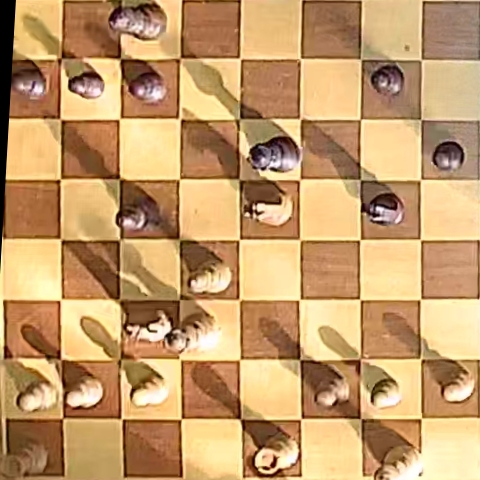black-bishop: (115, 199, 158, 231)
black-king: (109, 2, 167, 40)
black-knight: (364, 193, 404, 226)
black-pawn: (129, 71, 166, 104), (12, 68, 47, 100), (370, 64, 403, 96), (432, 141, 465, 172), (69, 71, 105, 99)
black-queen: (249, 137, 300, 172)
white-bishop: (187, 260, 232, 293)
white-king: (376, 445, 423, 479)
white-knight: (243, 186, 293, 226), (123, 310, 172, 344)
white-pawn: (130, 372, 169, 408), (17, 379, 57, 413), (66, 375, 104, 410), (441, 367, 476, 403), (313, 377, 349, 408), (369, 378, 401, 410)
white-queen: (163, 312, 220, 354)
white-rook: (1, 438, 48, 478), (254, 434, 298, 475)
